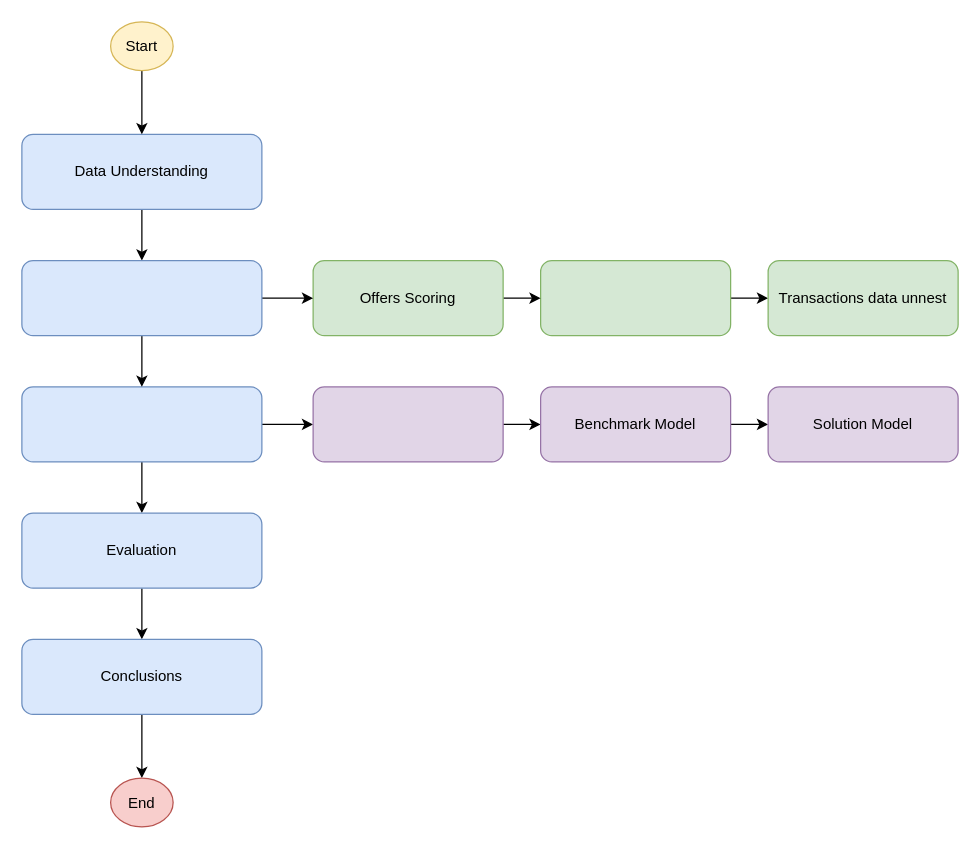
Some shapes in this 980 by 849 pixel diagram are drawn without their labels. The box of each missing label's shape, as (x1, y1, x2, y2) in pixels:
Data Preparation: (21, 259, 262, 336)
Demographic Clustering: (539, 259, 731, 336)
Modelling: (21, 386, 262, 462)
Segmentation Model: (312, 386, 503, 462)
